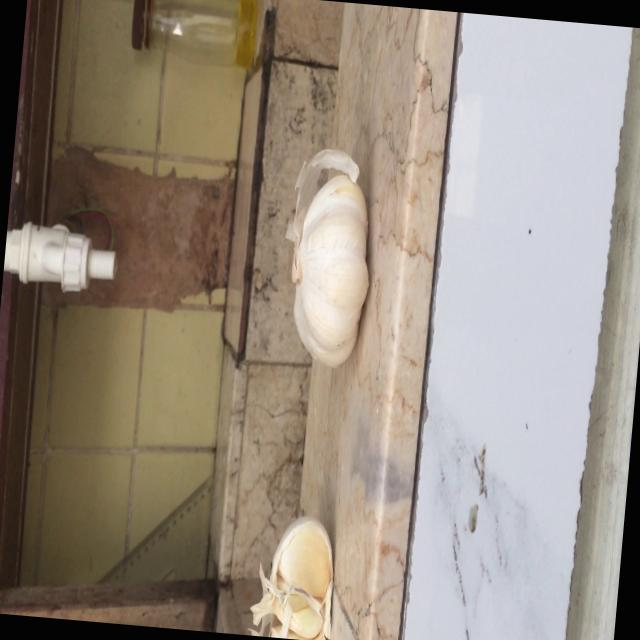bawang: (271, 140, 384, 372), (245, 507, 343, 640)
